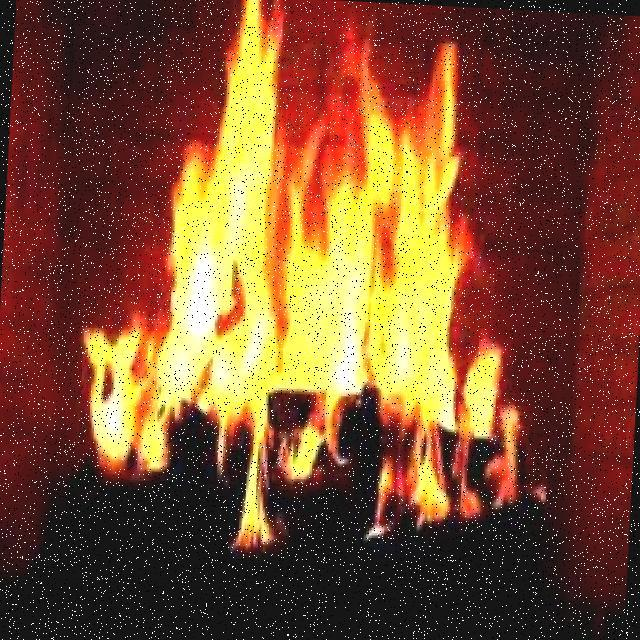Fire: (112, 59, 460, 478)
